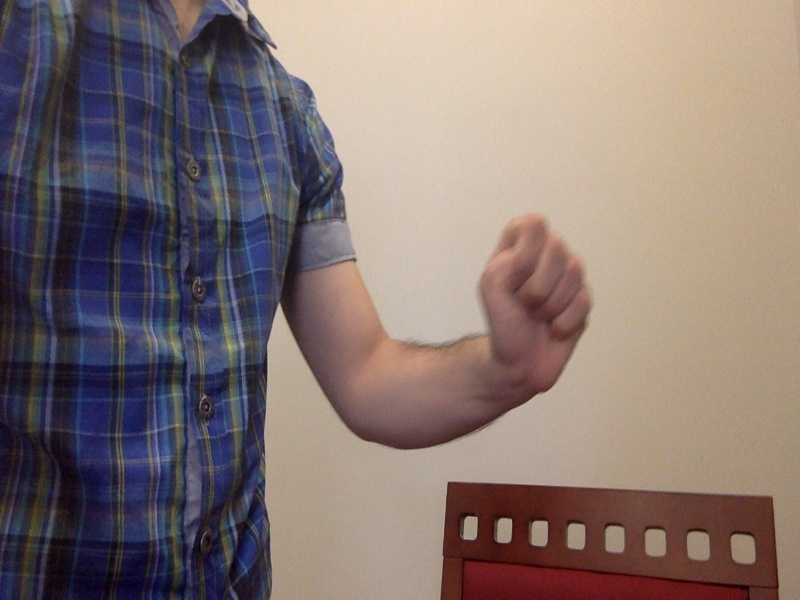0-hand: (478, 214, 589, 386)
